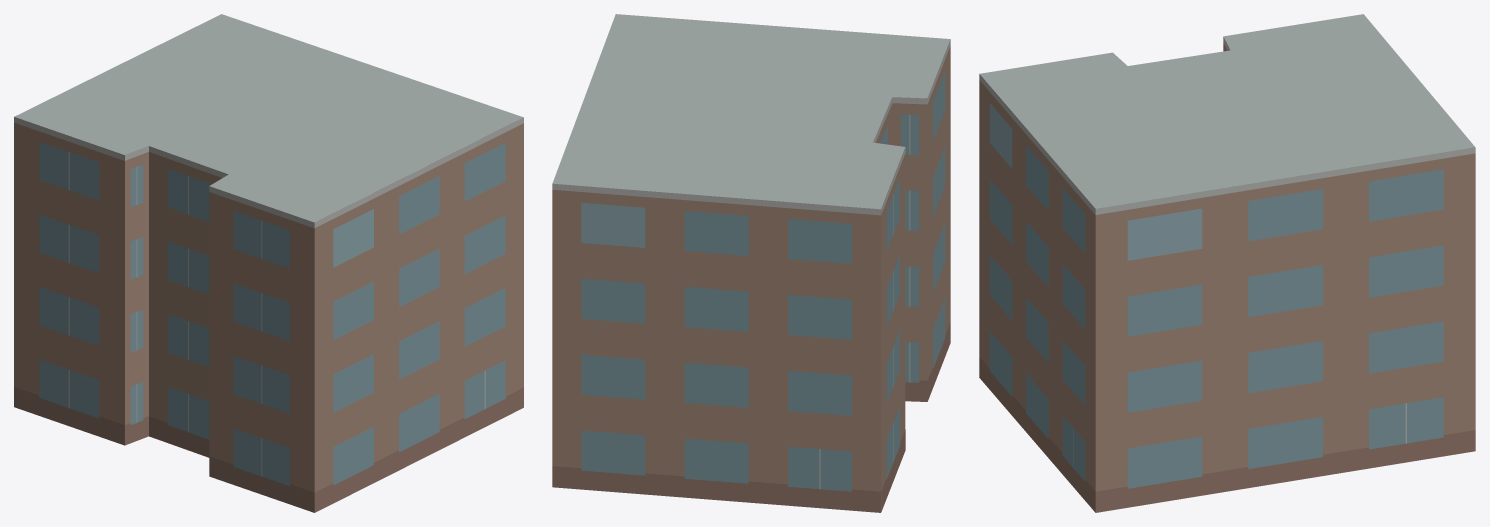
Rendered from survey-upis-32809110.glb.
3 renders of one model, left to right at view 1: azimuth 30°, elevation 25°; view 2: azimuth 150°, elevation 25°; view 3: azimuth 270°, elevation 25°, orthographic. The views are drawn at different scales.
Parts seen in each view (by area): view 1: survey-upis-32809110.tmp; view 2: survey-upis-32809110.tmp; view 3: survey-upis-32809110.tmp.
Part boxes in pixels (box(x1,y1,x2,y2)): survey-upis-32809110.tmp: box(14, 14, 523, 512); survey-upis-32809110.tmp: box(552, 14, 950, 512); survey-upis-32809110.tmp: box(979, 14, 1475, 512).
Size of the model in its own units: 16.8 by 12.2 by 18.06.
